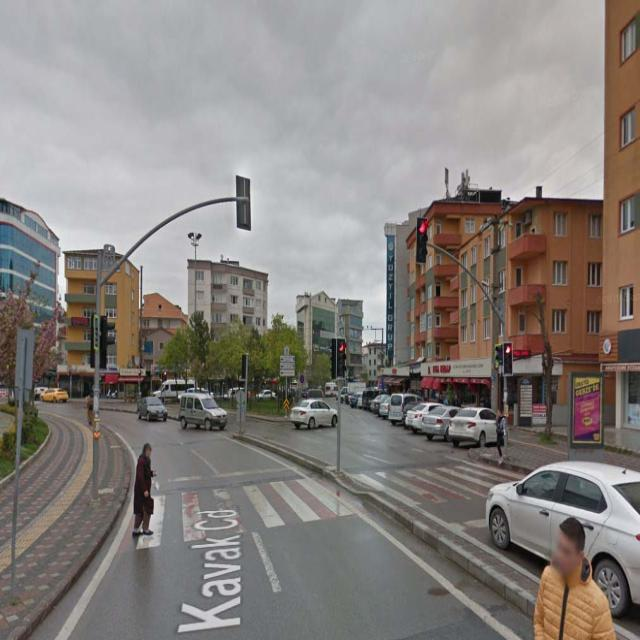kirmizi: (416, 217, 426, 264), (337, 340, 345, 378), (504, 342, 513, 374)
